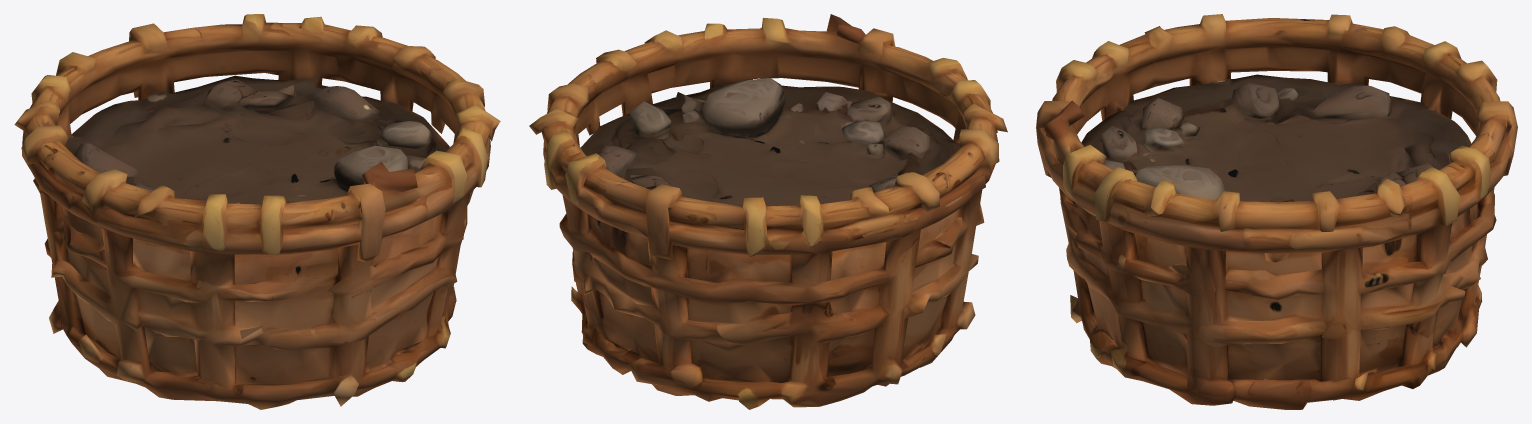
Rendered from basket-model.glb.
3 renders of one model, left to right at view 1: azimuth 30°, elevation 25°; view 2: azimuth 150°, elevation 25°; view 3: azimuth 270°, elevation 25°, orthographic. The views are drawn at different scales.
Visible parts, largest first — view 1: tripo_node_41901f42-7ddb-4ecd-a6ac-8e7e2ac4e6c9; view 2: tripo_node_41901f42-7ddb-4ecd-a6ac-8e7e2ac4e6c9; view 3: tripo_node_41901f42-7ddb-4ecd-a6ac-8e7e2ac4e6c9.
Part boxes in pixels (x1=…): tripo_node_41901f42-7ddb-4ecd-a6ac-8e7e2ac4e6c9: x1=14, y1=14, x2=500, y2=409; tripo_node_41901f42-7ddb-4ecd-a6ac-8e7e2ac4e6c9: x1=529, y1=14, x2=1007, y2=409; tripo_node_41901f42-7ddb-4ecd-a6ac-8e7e2ac4e6c9: x1=1036, y1=14, x2=1517, y2=409.
Size of the model in its own units: 0.9938 by 0.5622 by 1.
1 material, 1 textured.
